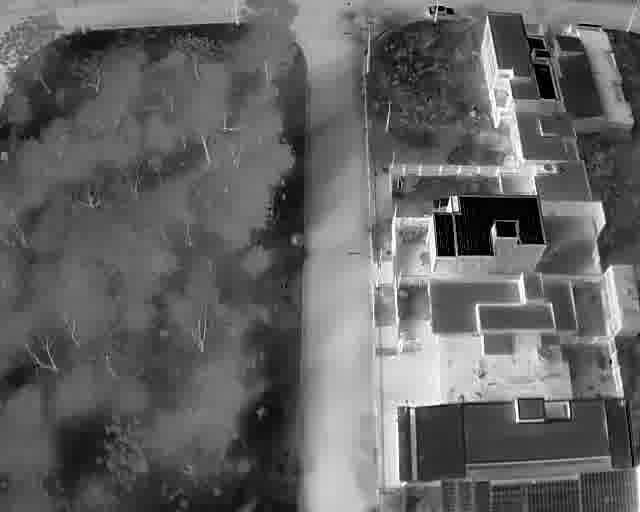car: (424, 5, 457, 18), (431, 197, 450, 211)
